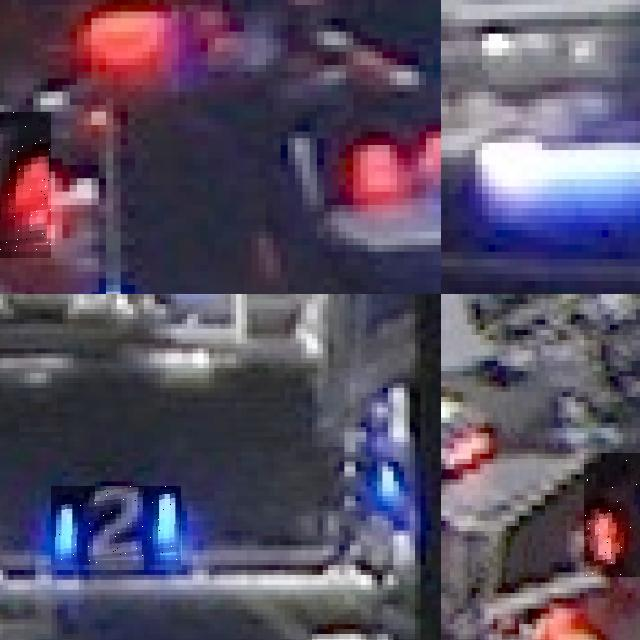B2: (52, 486, 182, 565)
R1: (0, 111, 51, 258), (584, 453, 640, 577), (441, 371, 493, 474)
